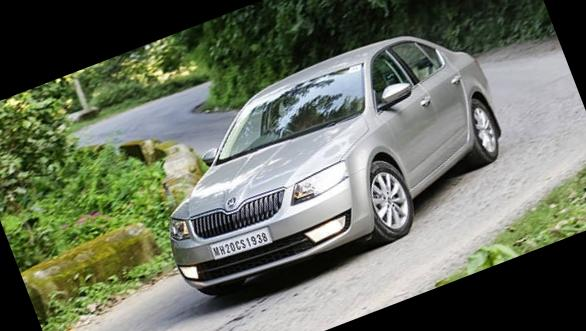plate: (204, 215, 281, 267)
